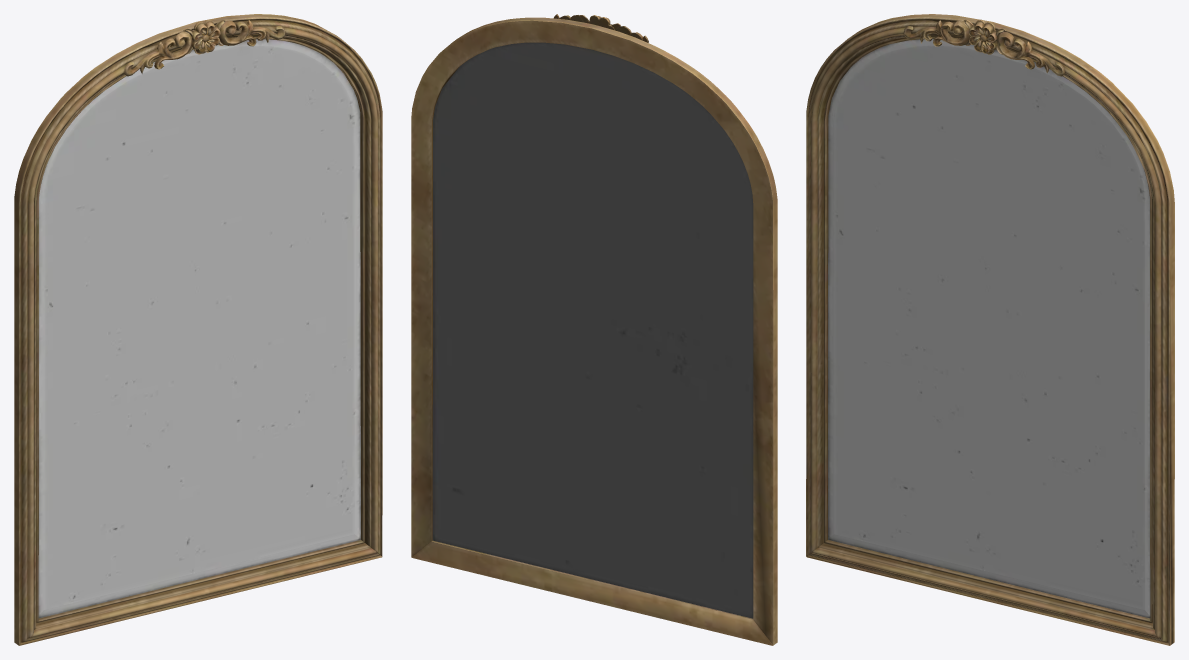
Rendered from ornate_mirror_01.glb.
The picture shows the model from 3 angles, left to right: view 1: azimuth 30°, elevation 25°; view 2: azimuth 150°, elevation 25°; view 3: azimuth 330°, elevation 25°; orthographic projection.
Visible parts, largest first — view 1: ornate_mirror_01; view 2: ornate_mirror_01; view 3: ornate_mirror_01.
Part boxes in pixels (<box>): ornate_mirror_01: <box>14,14,382,645</box>; ornate_mirror_01: <box>411,14,777,645</box>; ornate_mirror_01: <box>806,14,1174,645</box>.
Size of the model in its own units: 0.4865 by 0.7442 by 0.026.
Materials: 1 (1 with a texture image).
